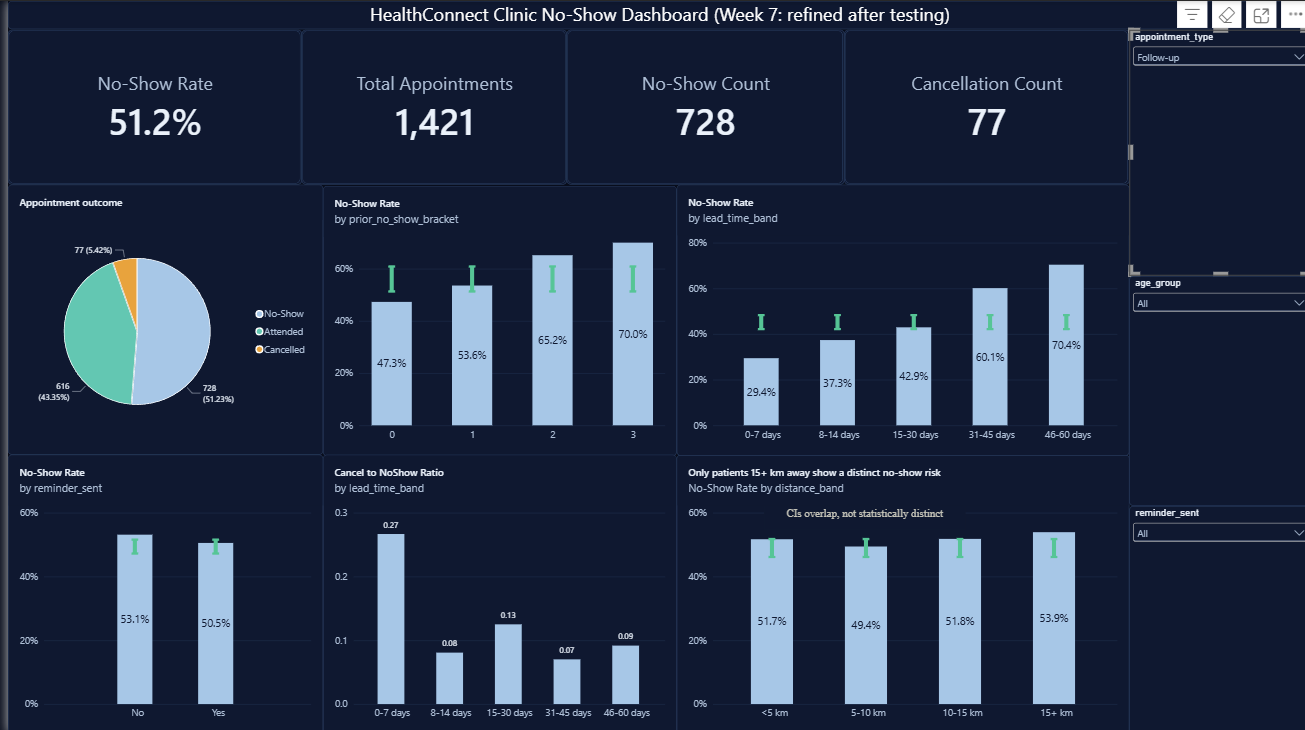

Layout of this report page (visuals, bound fields, positions):
{"tool":"powerbi","page":{"name":"Page 1","canvas":[1920,1080],"ordinal":0},"visuals":[{"type":"pieChart","title":"Appointment outcome","fields":{"Category":["healthconnect_appointments_prepared.appointment_outcome"],"Y":["CountNonNull(healthconnect_appointments_prepared.appointment_id)"]},"box":[0,270.6,463.8,397.5],"z":0},{"type":"clusteredColumnChart","fields":{"Y":["healthconnect_appointments_prepared.No-Show Rate"],"Category":["healthconnect_appointments_prepared.prior_no_show_bracket"]},"box":[463.8,272.4,520.9,397.5],"z":1000},{"type":"clusteredColumnChart","title":"Only patients 15+ km away show a distinct no-show risk","fields":{"Y":["healthconnect_appointments_prepared.No-Show Rate"],"Category":["healthconnect_appointments_prepared.distance_band"]},"box":[984.7,668.1,666.3,412.3],"z":2000},{"type":"clusteredColumnChart","fields":{"Y":["healthconnect_appointments_prepared.No-Show Rate"],"Category":["healthconnect_appointments_prepared.reminder_sent"]},"box":[0,668.1,463.8,412.3],"z":3000},{"type":"clusteredColumnChart","fields":{"Category":["healthconnect_appointments_prepared.lead_time_band"],"Y":["healthconnect_appointments_prepared.No-Show Rate"]},"box":[984.7,268.7,666.3,399.4],"z":4000},{"type":"clusteredColumnChart","fields":{"Y":["healthconnect_appointments_prepared.Cancel to NoShow Ratio"],"Category":["healthconnect_appointments_prepared.lead_time_band"]},"box":[463.8,668.1,520.9,412.3],"z":5000},{"type":"textbox","box":[0,0,1920.4,41.7],"z":6000},{"type":"cardVisual","fields":{"Data":["healthconnect_appointments_prepared.No-Show Rate"]},"box":[0,42.3,432.5,228.2],"z":7000},{"type":"cardVisual","fields":{"Data":["healthconnect_appointments_prepared.Total Appointments"]},"box":[432.5,42.3,390.2,228.2],"z":8000},{"type":"cardVisual","fields":{"Data":["healthconnect_appointments_prepared.No-Show Count"]},"box":[822.7,42.3,408.6,228.2],"z":9000},{"type":"cardVisual","fields":{"Data":["healthconnect_appointments_prepared.Cancellation Count"]},"box":[1231.3,42.3,419.6,228.2],"z":10000},{"type":"textbox","box":[1113.5,743.6,296.3,35],"z":11000},{"type":"slicer","fields":{"Values":["healthconnect_appointments_prepared.appointment_type"]},"box":[1650.9,42.3,268.7,362.6],"z":11001},{"type":"slicer","fields":{"Values":["healthconnect_appointments_prepared.age_group"]},"box":[1650.9,404.9,268.7,338.7],"z":11002},{"type":"slicer","fields":{"Values":["healthconnect_appointments_prepared.reminder_sent"]},"box":[1650.9,743.6,268.7,336.8],"z":11003}]}

Visuals, with their boxes on the page's 1920x1080 design canvas (x1, y1, x2, y2). These are canvas units, not pixel positions in the 1305x730 screenshot, which may show the page scaled, cropped or inside an application window:
"Appointment outcome" pieChart: 0/271/464/668
clusteredColumnChart - healthconnect_appointments_prepared.No-Show Rate x healthconnect_appointments_prepared.prior_no_show_bracket: 464/272/985/670
"Only patients 15+ km away show a distinct no-show risk" clusteredColumnChart: 985/668/1651/1080
clusteredColumnChart - healthconnect_appointments_prepared.No-Show Rate x healthconnect_appointments_prepared.reminder_sent: 0/668/464/1080
clusteredColumnChart - healthconnect_appointments_prepared.lead_time_band x healthconnect_appointments_prepared.No-Show Rate: 985/269/1651/668
clusteredColumnChart - healthconnect_appointments_prepared.Cancel to NoShow Ratio x healthconnect_appointments_prepared.lead_time_band: 464/668/985/1080
textbox: 0/0/1920/42
cardVisual - healthconnect_appointments_prepared.No-Show Rate: 0/42/432/270
cardVisual - healthconnect_appointments_prepared.Total Appointments: 432/42/823/270
cardVisual - healthconnect_appointments_prepared.No-Show Count: 823/42/1231/270
cardVisual - healthconnect_appointments_prepared.Cancellation Count: 1231/42/1651/270
textbox: 1114/744/1410/779
slicer - healthconnect_appointments_prepared.appointment_type: 1651/42/1920/405
slicer - healthconnect_appointments_prepared.age_group: 1651/405/1920/744
slicer - healthconnect_appointments_prepared.reminder_sent: 1651/744/1920/1080
